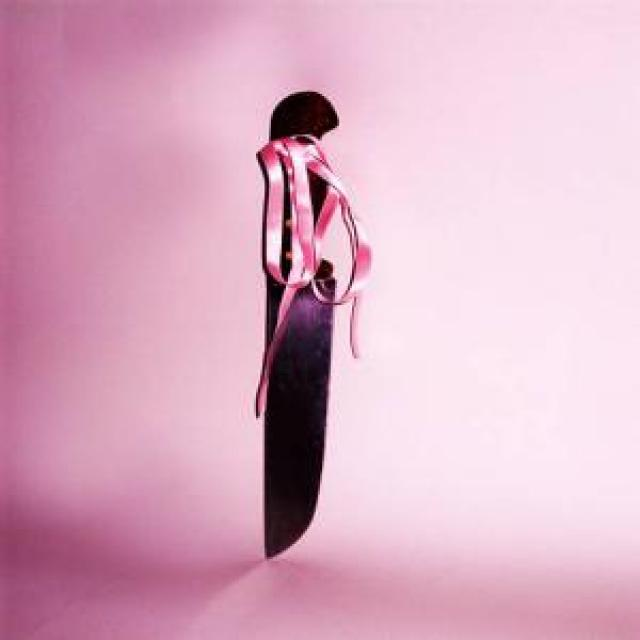knife: (254, 81, 341, 564)
